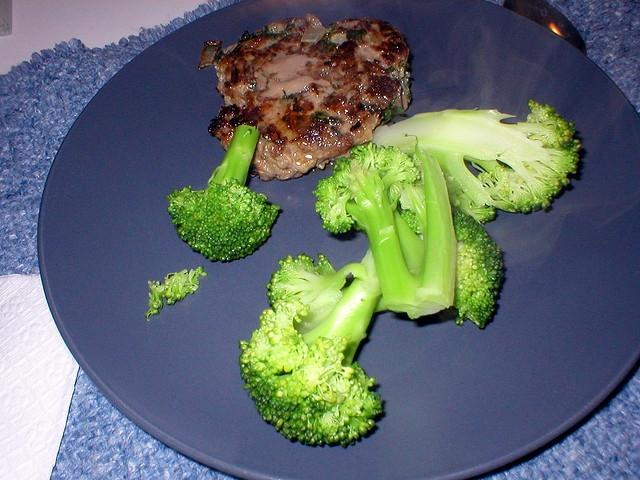broccoli: (238, 255, 388, 446), (312, 133, 457, 320), (371, 99, 582, 214), (166, 125, 280, 262), (401, 206, 504, 330), (144, 266, 208, 323)
